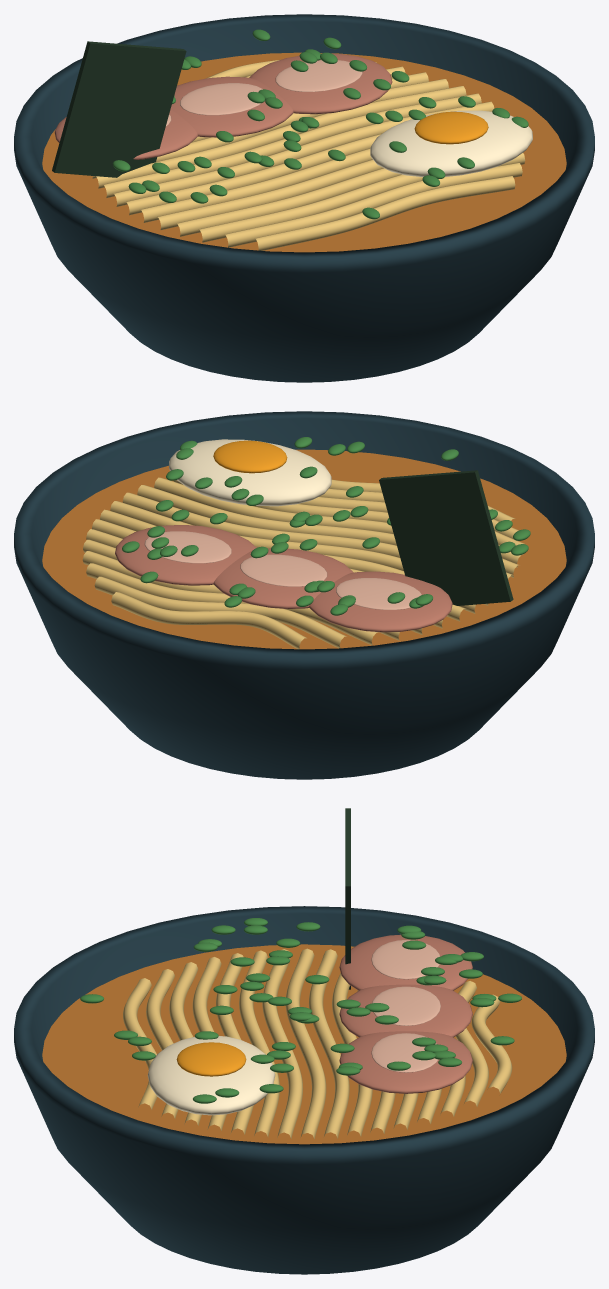
Rendered from ramen.glb.
3 renders of one model, top to bottom at view 1: azimuth 30°, elevation 25°; view 2: azimuth 150°, elevation 25°; view 3: azimuth 270°, elevation 25°, orthographic.
Visible parts, largest first — view 1: Stylized demo ramen; view 2: Stylized demo ramen; view 3: Stylized demo ramen.
Boxes of the visible parts, <box> form: Stylized demo ramen: <box>14,14,594,382</box>; Stylized demo ramen: <box>14,411,594,779</box>; Stylized demo ramen: <box>14,808,594,1274</box>.
Bounding box in the file's own units: 2 × 1.2 × 2.
